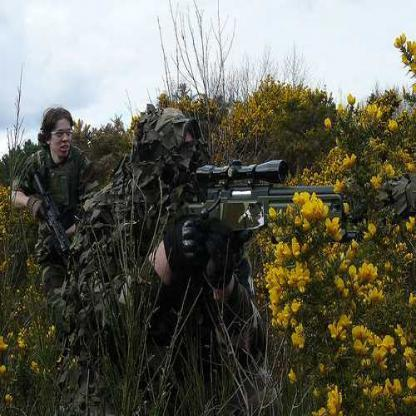rifle: (144, 102, 353, 271), (18, 163, 86, 282)
